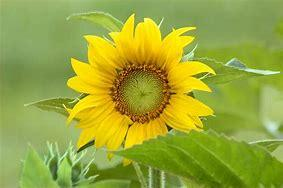sunflowers: (68, 10, 214, 150)
